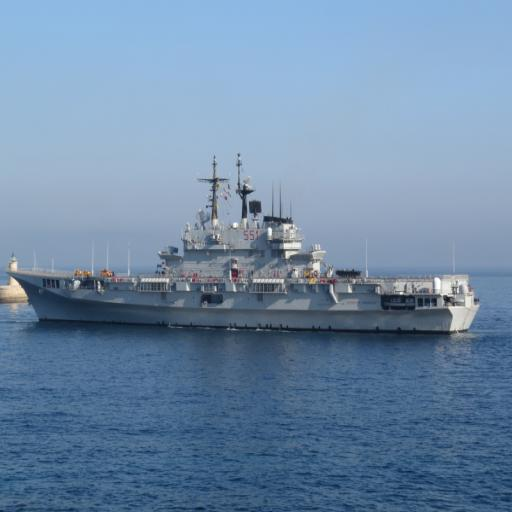Portanaves: (8, 149, 483, 339)
